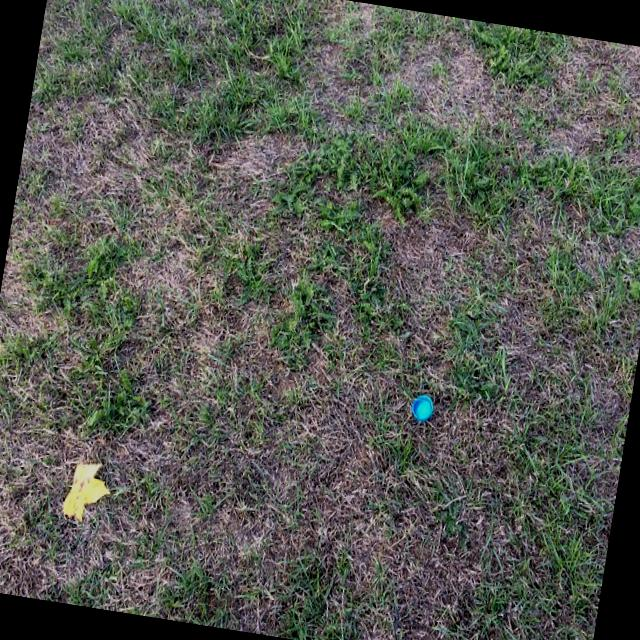Recycle: (412, 390, 436, 426)
Trash: (61, 457, 116, 527)
